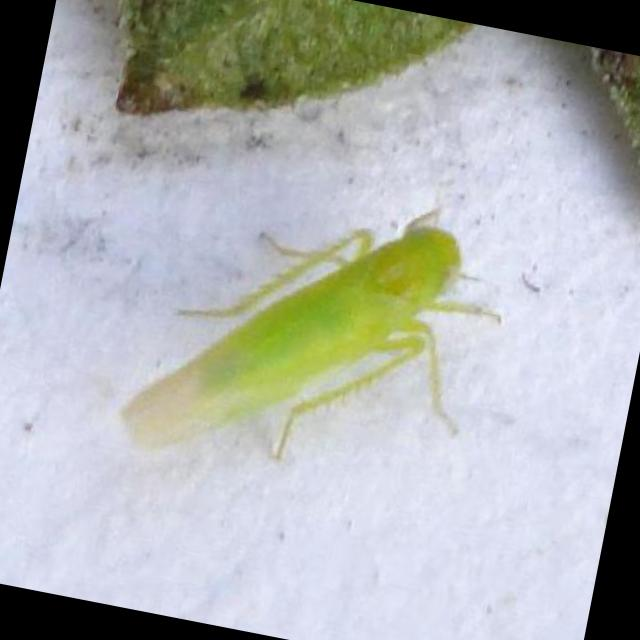green-leafhopper: (115, 158, 512, 520)
